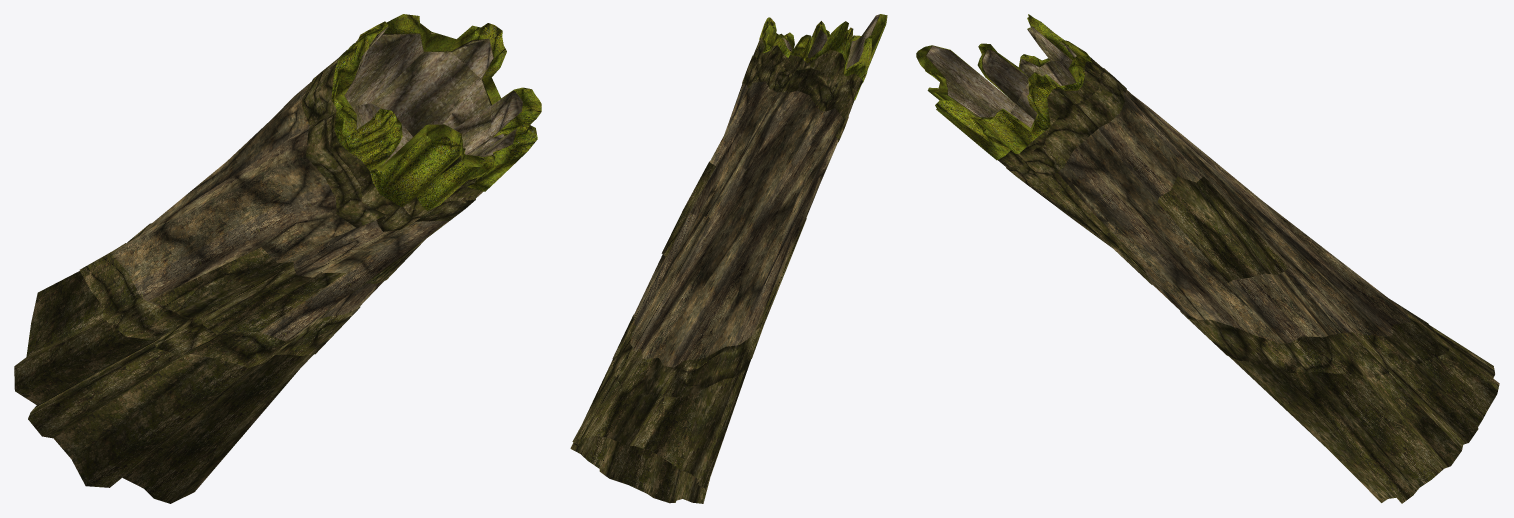
3 views of the same model, side by side, from view 1: azimuth 30°, elevation 25°; view 2: azimuth 150°, elevation 25°; view 3: azimuth 270°, elevation 25° (orthographic). The views are drawn at different scales.
Parts seen in each view (by area): view 1: mesh2, mesh0, mesh3, mesh4, mesh1; view 2: mesh0, mesh2, mesh3, mesh4, mesh1; view 3: mesh0, mesh2, mesh3, mesh4, mesh1.
Part boxes in pixels (bbox=[...]): mesh2: bbox=[14, 27, 518, 503]; mesh0: bbox=[111, 34, 498, 341]; mesh3: bbox=[79, 50, 475, 367]; mesh4: bbox=[331, 14, 541, 210]; mesh1: bbox=[344, 26, 522, 165]; mesh0: bbox=[630, 81, 843, 367]; mesh2: bbox=[570, 15, 879, 503]; mesh3: bbox=[611, 55, 857, 397]; mesh4: bbox=[759, 14, 887, 100]; mesh1: bbox=[775, 14, 879, 68]; mesh0: bbox=[1057, 90, 1410, 343]; mesh2: bbox=[925, 28, 1499, 503]; mesh3: bbox=[1006, 68, 1450, 377]; mesh4: bbox=[916, 14, 1091, 160]; mesh1: bbox=[926, 26, 1076, 127].
Size of the model in its own units: 30.02 by 84.89 by 96.61.
